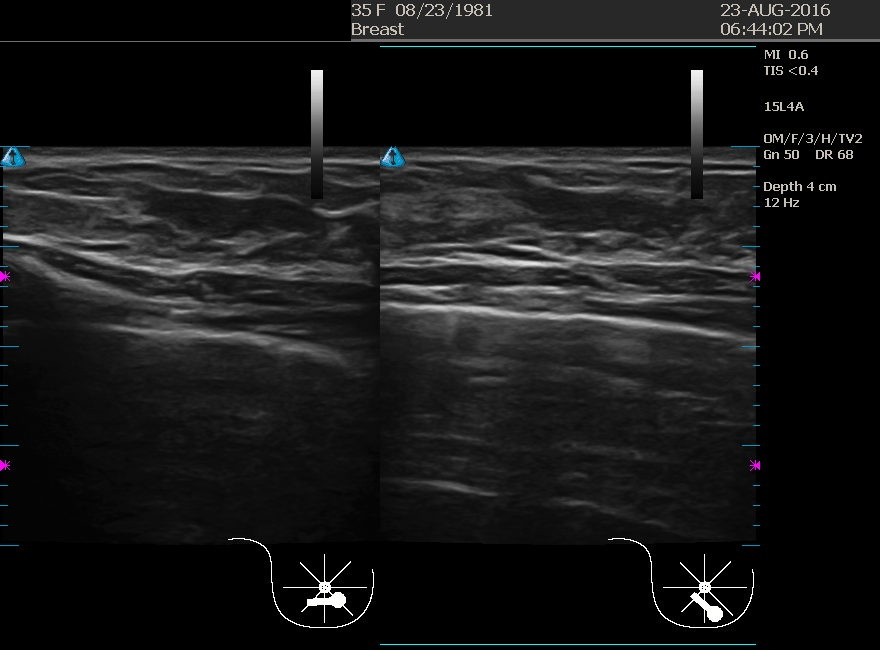BIRADS_4: (109, 150, 309, 350), (489, 151, 689, 351)
